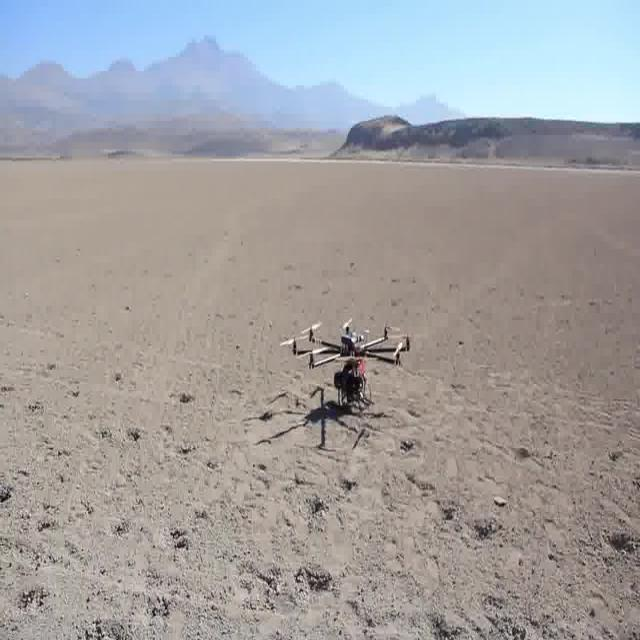drone: (266, 304, 430, 427)
